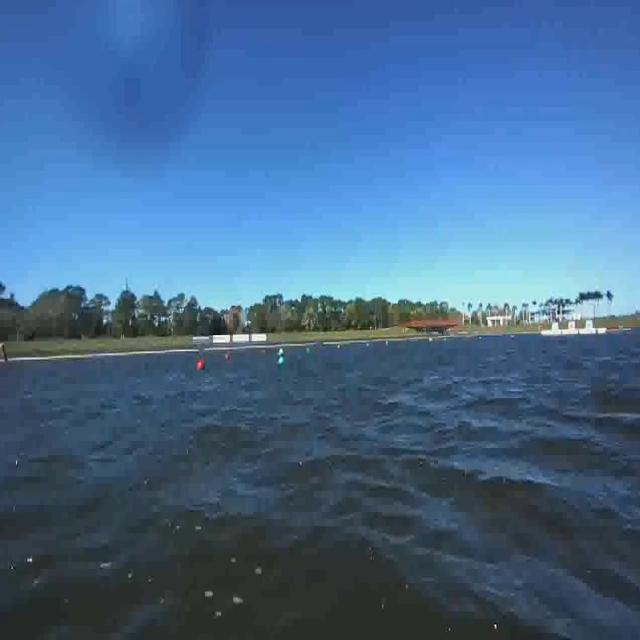red-buoy: (198, 358, 206, 371)
